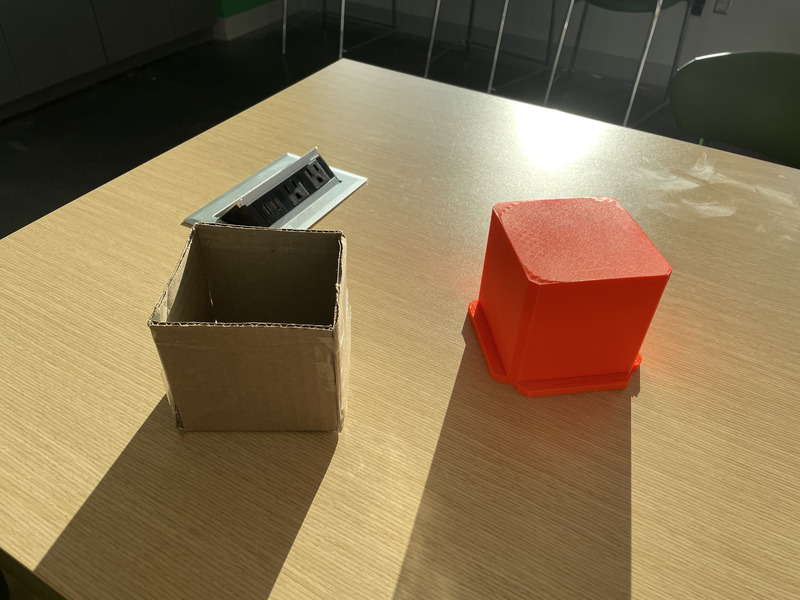payload1: (460, 191, 674, 408)
payload3: (142, 216, 373, 461)
